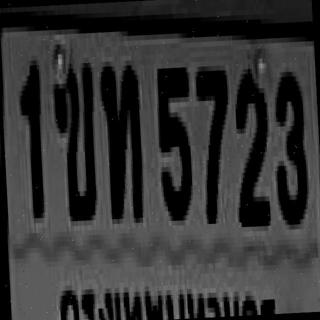A02: (51, 58, 98, 217)
A23: (98, 60, 143, 219)
N01: (16, 56, 44, 214)
N02: (230, 64, 271, 222)
N03: (270, 66, 307, 220)
N05: (153, 62, 194, 216)
N07: (194, 63, 232, 222)
